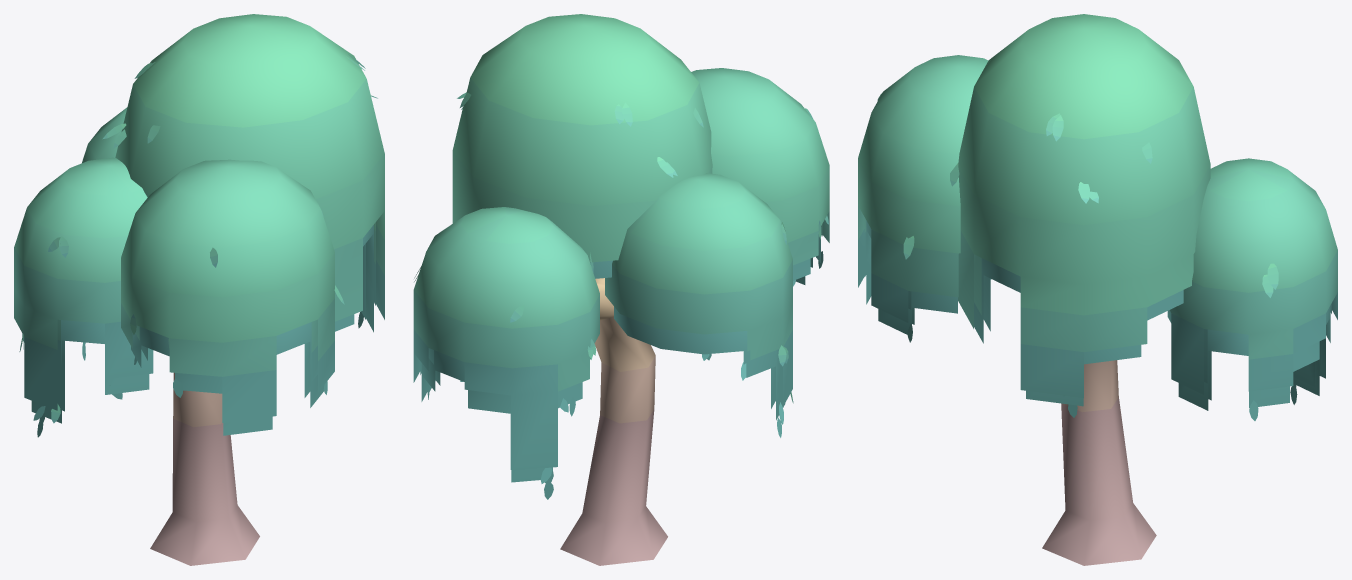
File: willow_tree.glb
The picture shows the model from 3 angles, left to right: view 1: azimuth 30°, elevation 25°; view 2: azimuth 150°, elevation 25°; view 3: azimuth 270°, elevation 25°; orthographic projection. The views are drawn at different scales.
Parts seen in each view (by area): view 1: Willow_Tree.001; view 2: Willow_Tree.001; view 3: Willow_Tree.001.
Boxes of the visible parts, left/top/right/bottom form: Willow_Tree.001: left=14, top=14, right=384, bottom=565; Willow_Tree.001: left=413, top=14, right=829, bottom=565; Willow_Tree.001: left=858, top=14, right=1337, bottom=565.
Bounding box in the file's own units: 4.5 × 6.36 × 5.21.
